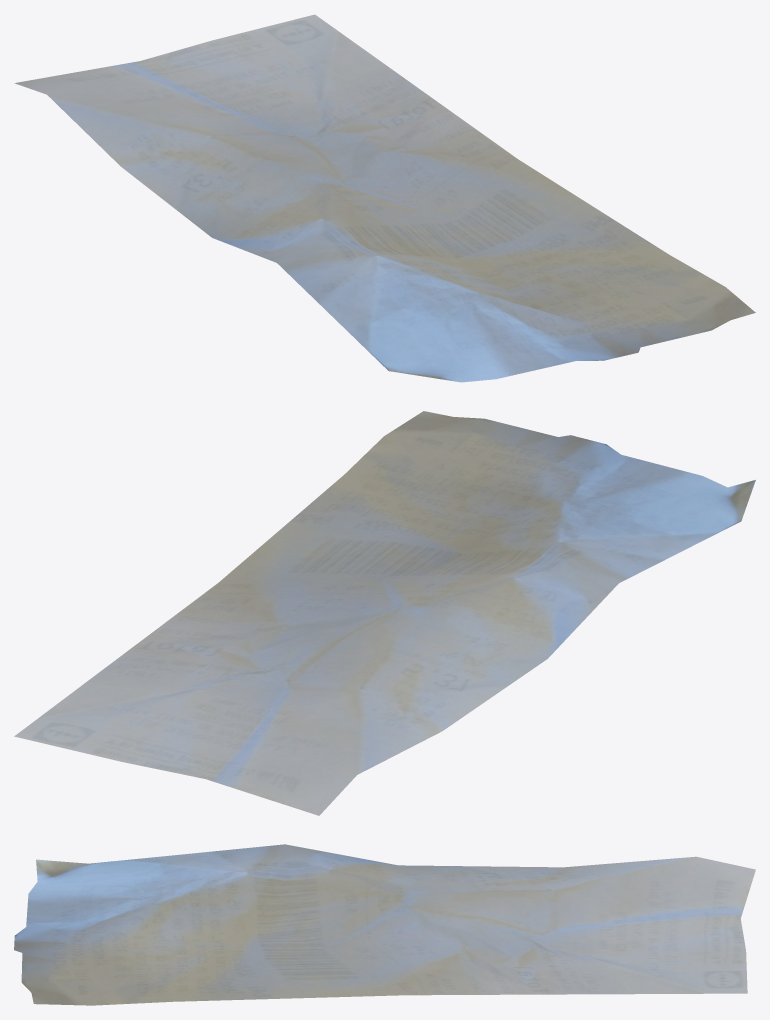
File: SM_Trash_Ticket_01d.fbx
3 renders of one model, top to bottom at view 1: azimuth 30°, elevation 25°; view 2: azimuth 150°, elevation 25°; view 3: azimuth 270°, elevation 25°, orthographic. The views are drawn at different scales.
Parts seen in each view (by area): view 1: SM_Trash_Ticket_01d; view 2: SM_Trash_Ticket_01d; view 3: SM_Trash_Ticket_01d.
Part boxes in pixels (<box>): SM_Trash_Ticket_01d: <box>14,14,755,382</box>; SM_Trash_Ticket_01d: <box>14,411,755,815</box>; SM_Trash_Ticket_01d: <box>14,844,755,1005</box>.
Size of the model in its own units: 8.64 by 19.09 by 0.7563.
1 material, 1 textured.
